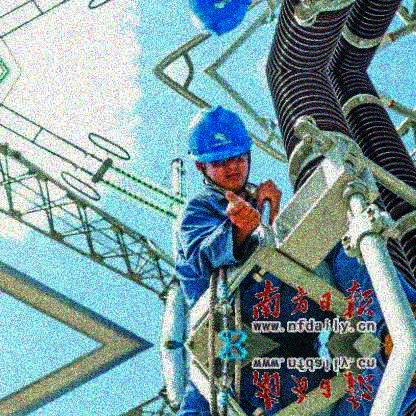helmet: (181, 104, 254, 195)
